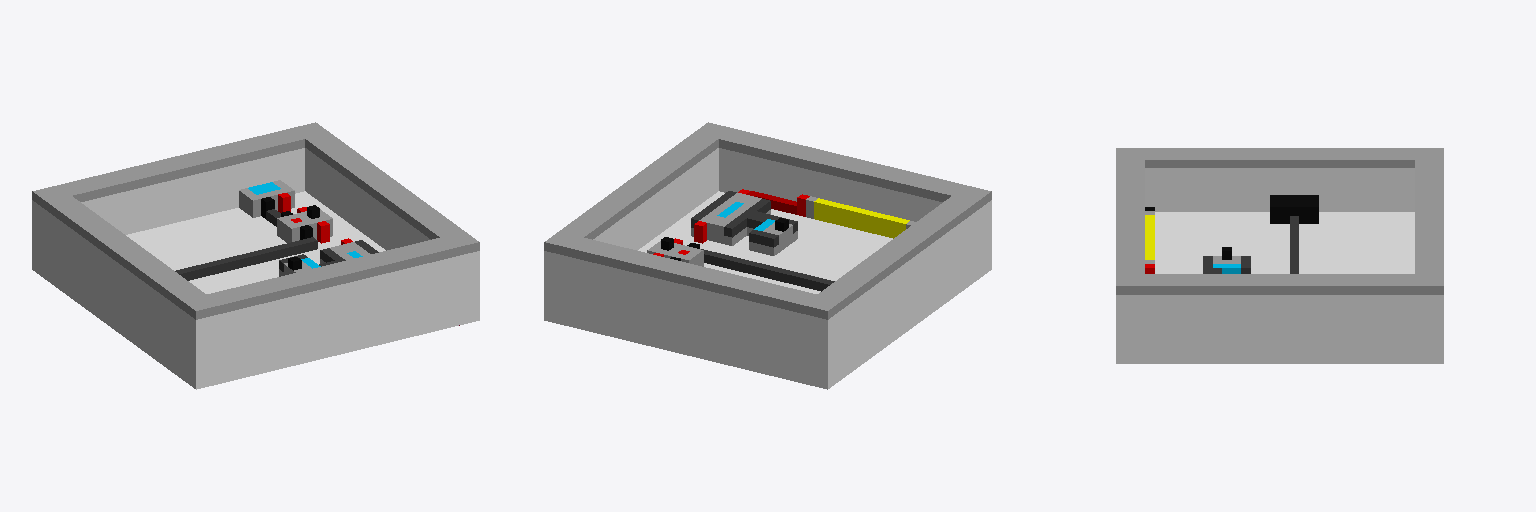
The picture shows the model from 3 angles: view 1: azimuth 30°, elevation 25°; view 2: azimuth 150°, elevation 25°; view 3: azimuth 270°, elevation 25°; orthographic projection.
Parts seen in each view (by area): view 1: control_box_NG_61; view 2: control_box_NG_61; view 3: control_box_NG_61.
Part boxes in pixels (x1,y1,x2,y2): control_box_NG_61: (32,122,479,389); control_box_NG_61: (544,122,991,389); control_box_NG_61: (1116,148,1443,363).
Bounding box in the file's own units: 3.4 × 0.9 × 3.4.
Materials: 1 (1 with a texture image).